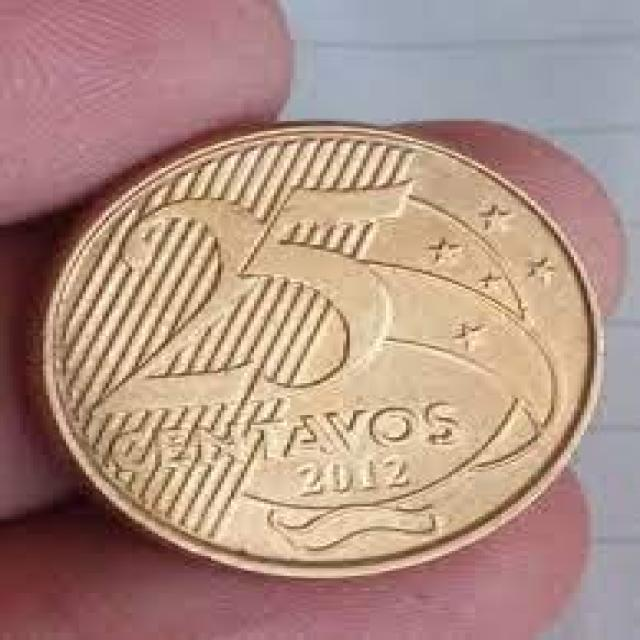25 cent: (52, 122, 599, 573)
